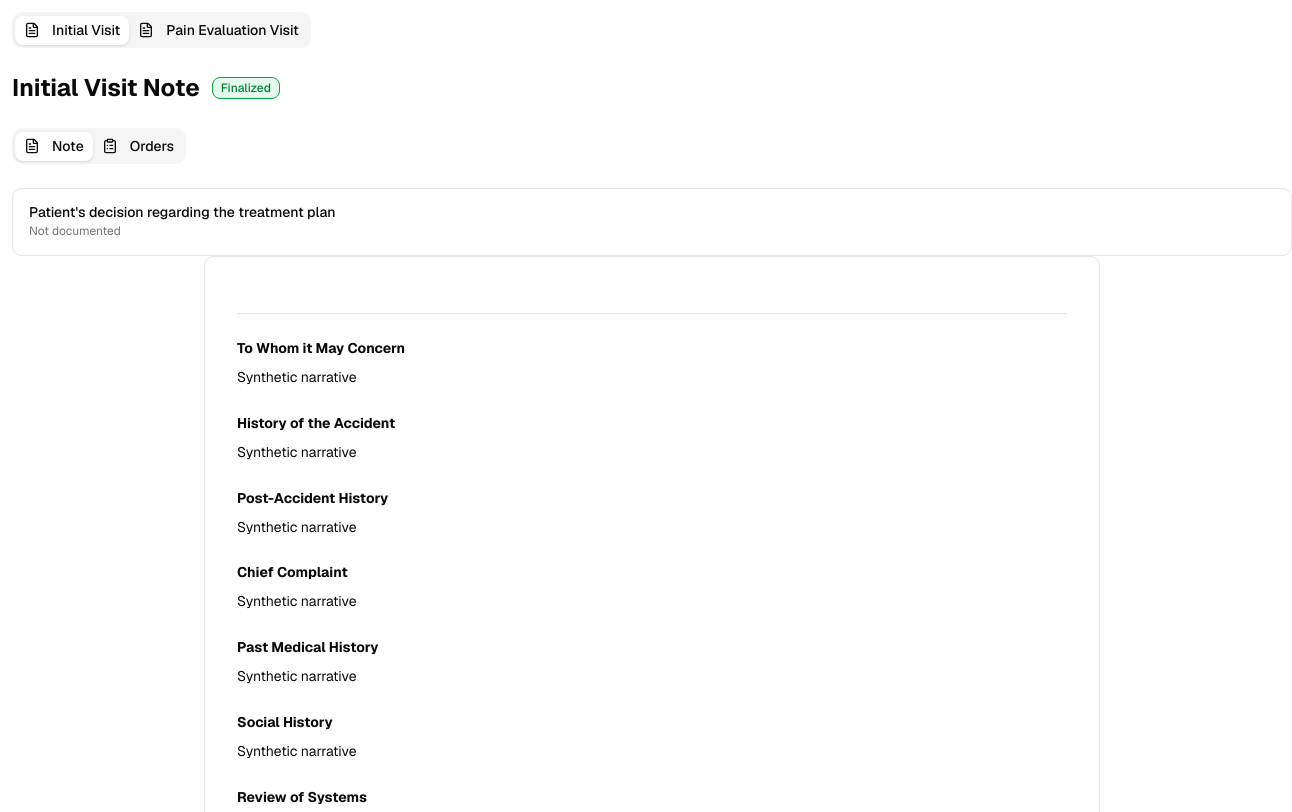
retains confirmed rows and downloads when a refresh fails
Click the tab "Orders".
click(138, 146)  # box [93,132,183,160]
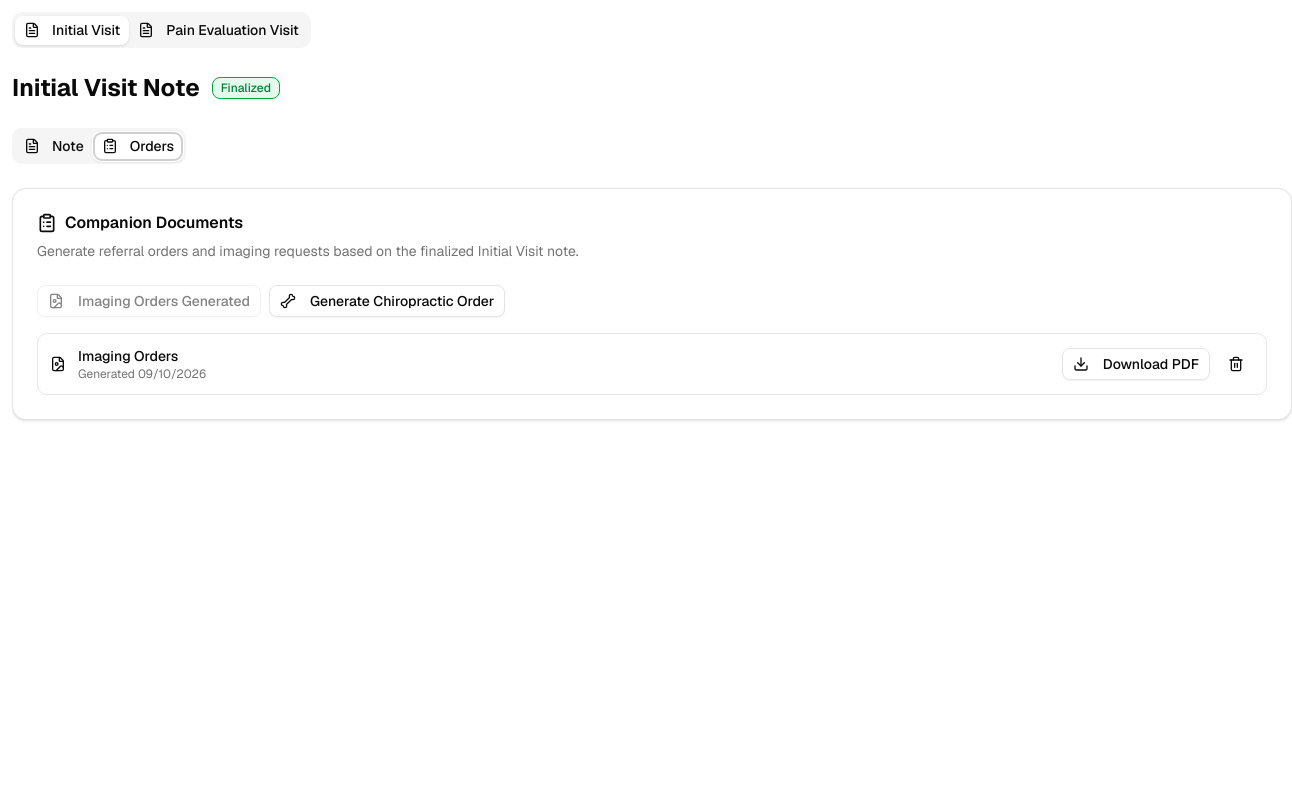
Click the button "Generate Chiropractic Order".
click(387, 301)  # box [269,285,505,317]
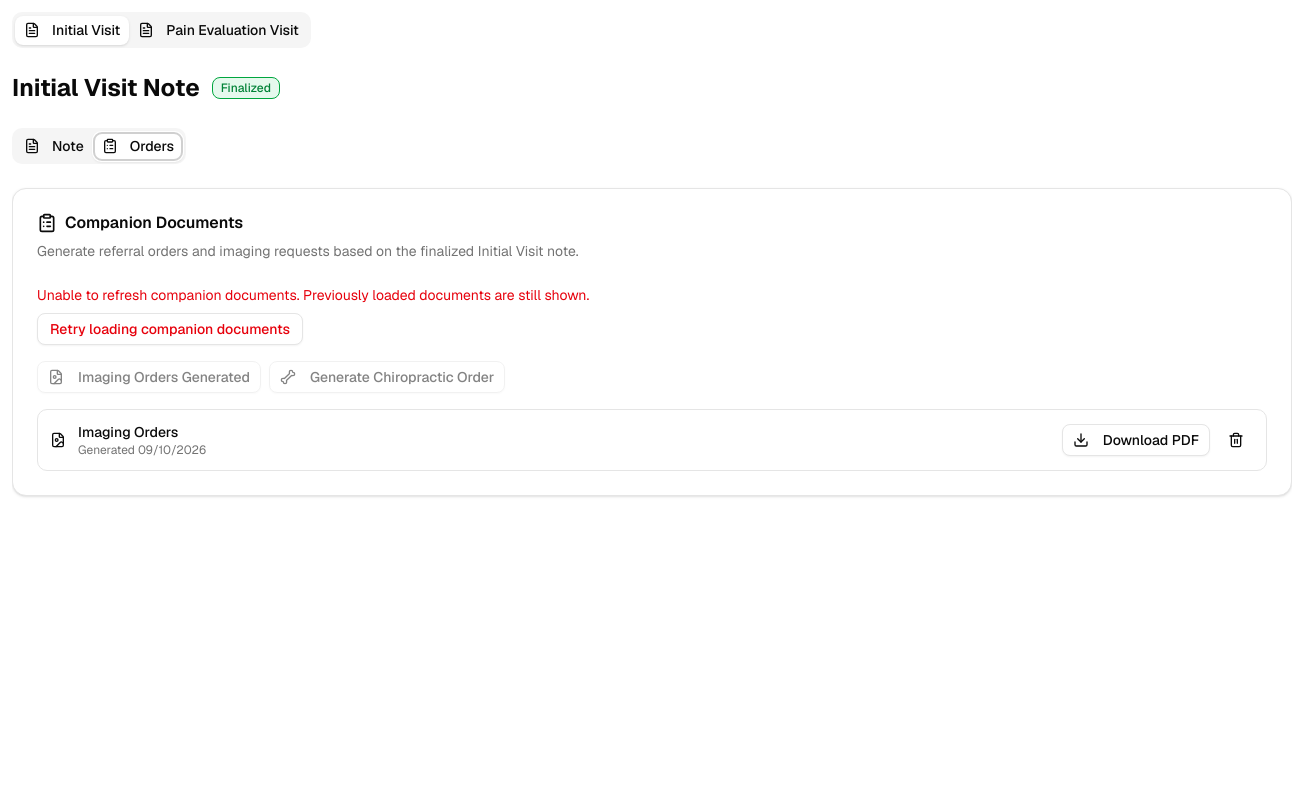
expect the button named "Delete Imaging Orders" is shown: met, box [1218,424,1254,456]
expect the button "Download PDF" is enabled: met, box [1062,424,1210,456]
expect the text "Previously loaded documents are still shown" is shown: met, box [300,286,589,304]
